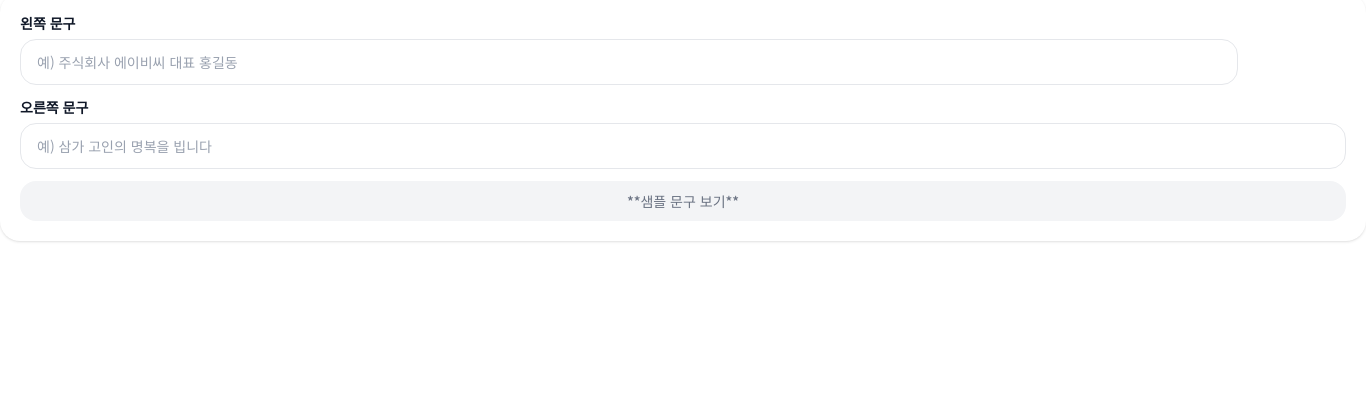
Test: RibbonText › should show presets panel when toggle is clicked
The width and height of the screenshot is (1366, 403).
Click the button "**샘플 문구 보기**": click(683, 201) [20, 181, 1346, 221]
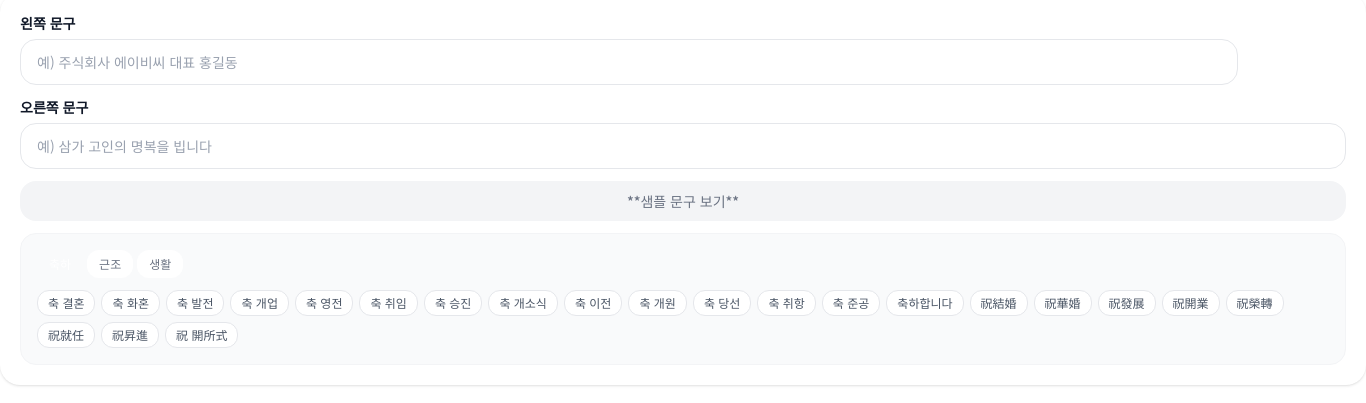
Result: the button "근조" is shown at [87, 250, 133, 278]
Result: the button "생활" is shown at [137, 250, 183, 278]
